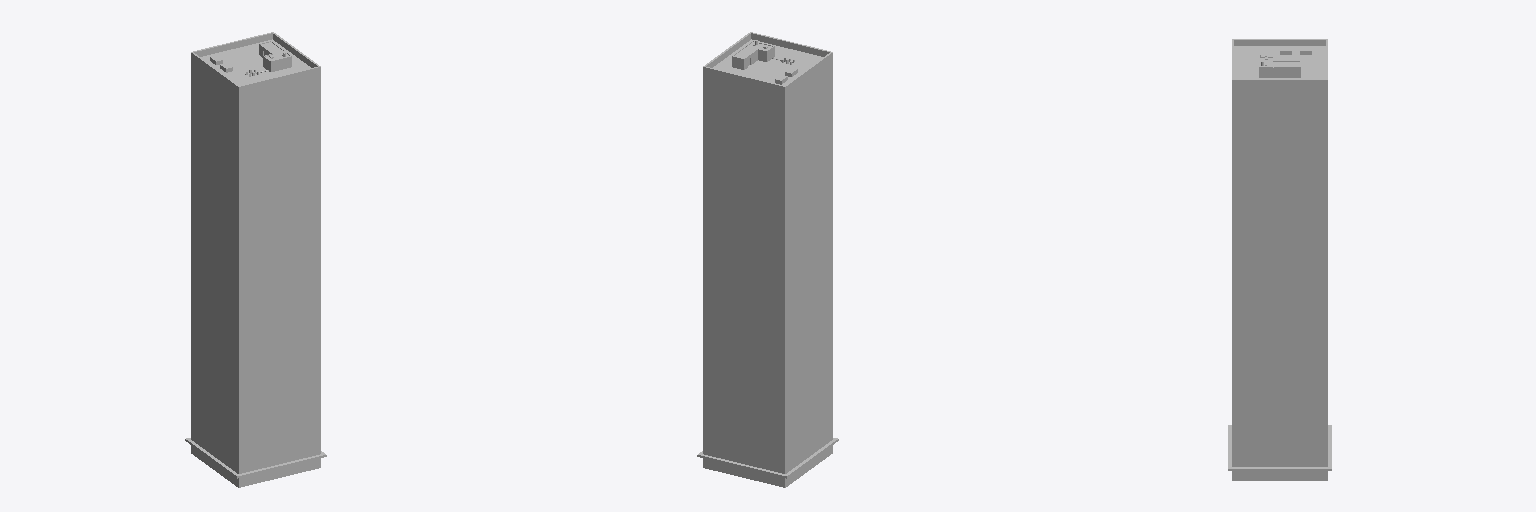
The model's file is Blue.007.obj.
3 views of the same model, side by side, from view 1: azimuth 30°, elevation 25°; view 2: azimuth 150°, elevation 25°; view 3: azimuth 270°, elevation 25° (orthographic).
Visible parts, largest first — view 1: Blue.007_Cube.001; view 2: Blue.007_Cube.001; view 3: Blue.007_Cube.001.
Boxes of the visible parts, <box> form: Blue.007_Cube.001: <box>185,32,326,487</box>; Blue.007_Cube.001: <box>697,32,838,487</box>; Blue.007_Cube.001: <box>1228,39,1331,480</box>.
Size of the model in its own units: 0.4325 by 1.89 by 0.4325.